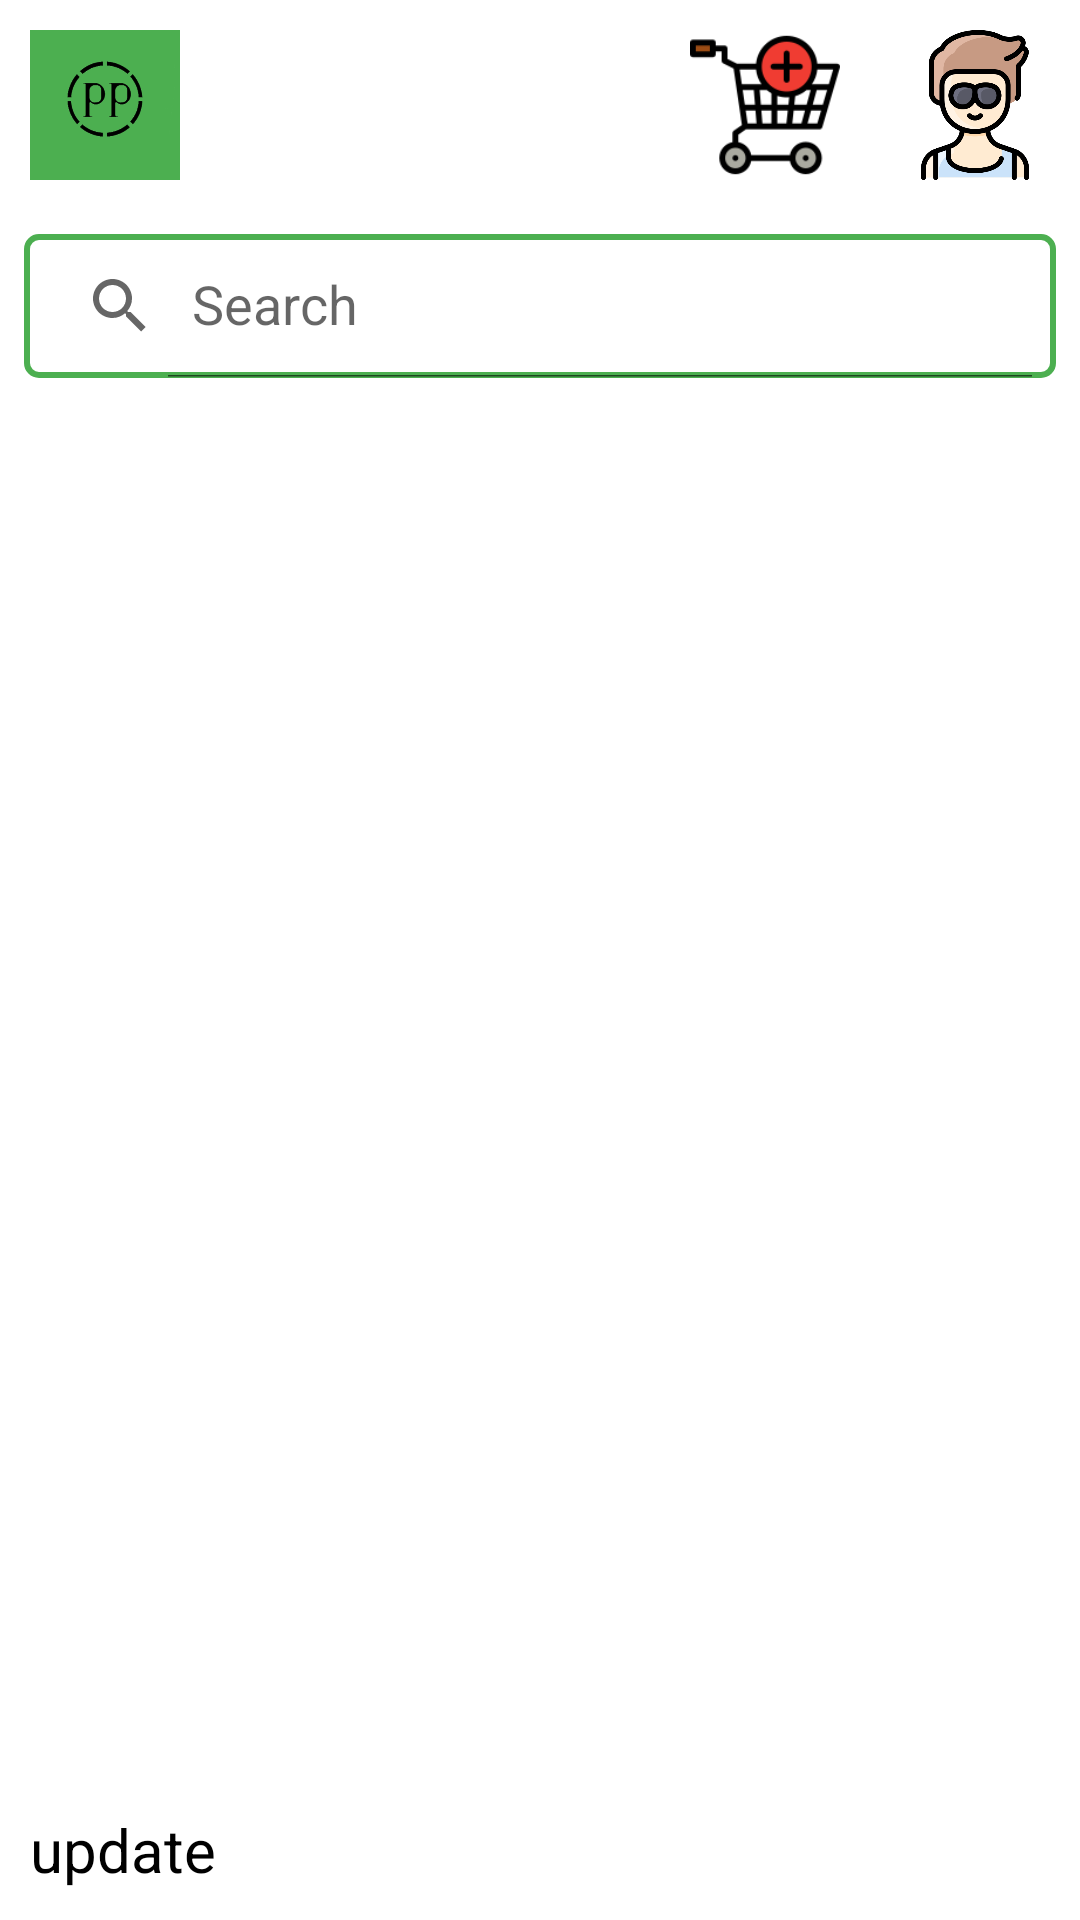

Where to tap for icons on this 1080px x 1920px app screen, as (x=x, y=y):
cart: (x=765, y=105)
profilehome: (x=975, y=105)
